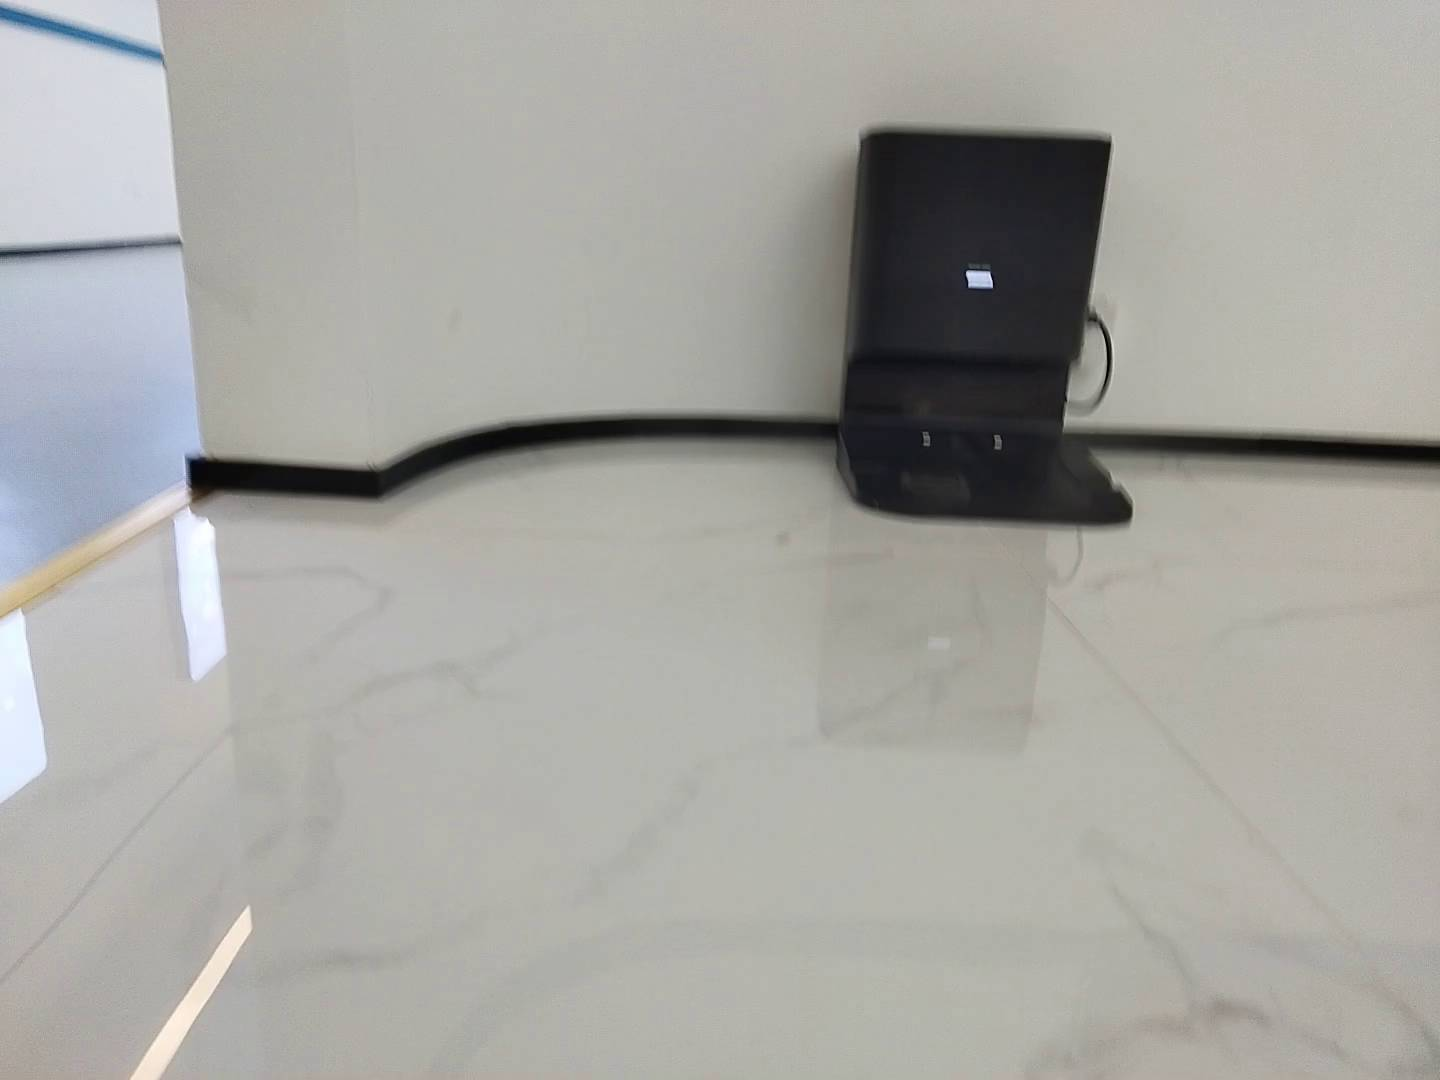dust collecting barrel: (835, 125, 1136, 528)
